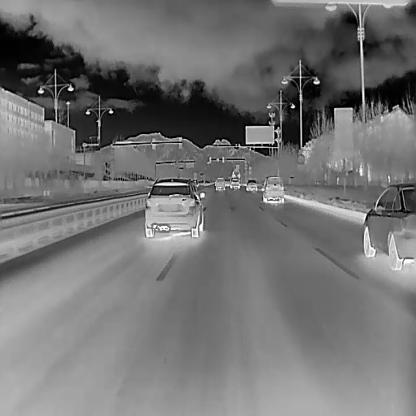car: (362, 184, 415, 270), (144, 178, 205, 237), (262, 176, 285, 203), (245, 178, 257, 191), (214, 177, 225, 190), (229, 177, 240, 189), (231, 167, 241, 178), (224, 176, 230, 187), (204, 177, 210, 185)
